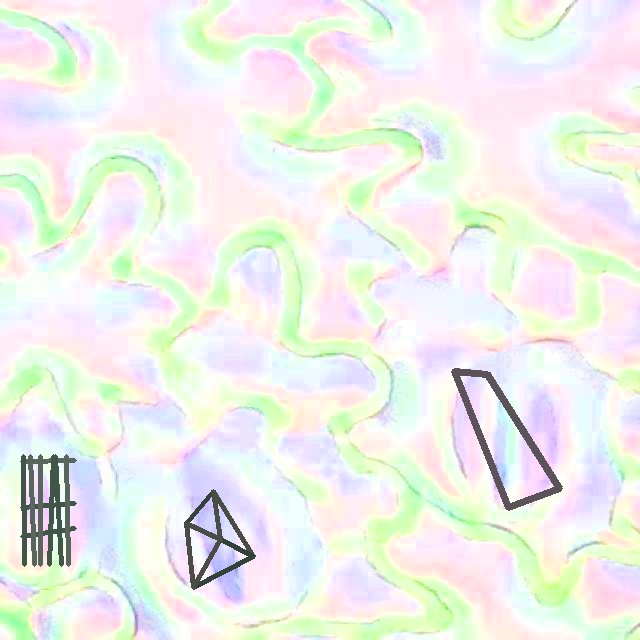open: (451, 371, 562, 510), (184, 489, 255, 589), (21, 454, 75, 565)
